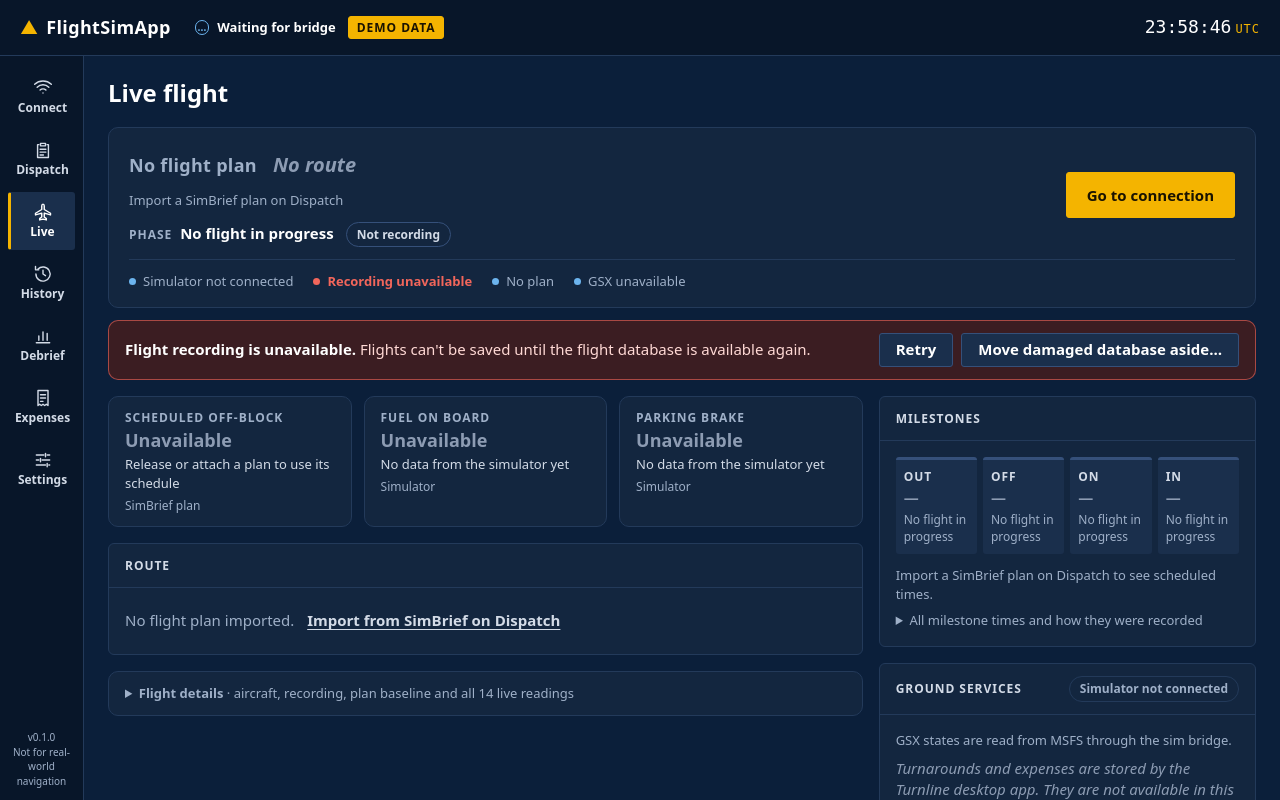
Scenario: operations-center layout (L4, opt-in) › shows recording problems in plain language on Live Flight instead of the technical banners
Expected: the message that starts with "Flight recording is unavailable." shows "Flight recording is unavailable. Flights can't be saved until the flight database is available again.", [108,320,1256,380]
Expected: the message that starts with "Flight recording is unavailable." does not show "flightsim.db", [108,320,1256,380]
Click the button "Move damaged database aside…". click: (1100, 350)
box: [961,333,1239,367]
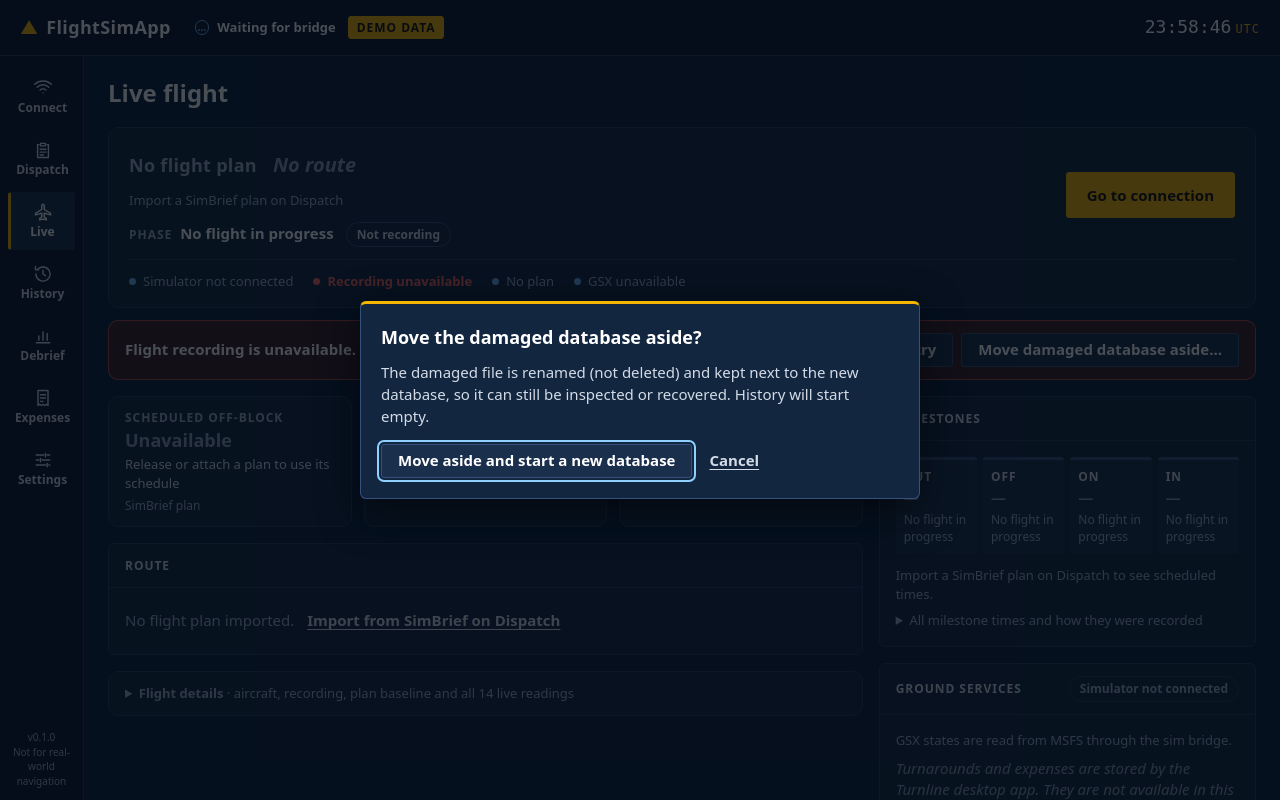
Result: the dialog "Move the damaged database aside?" is shown at [360,301,920,499]
Click the button "Cancel". click: (734, 461)
box: [700,444,768,478]
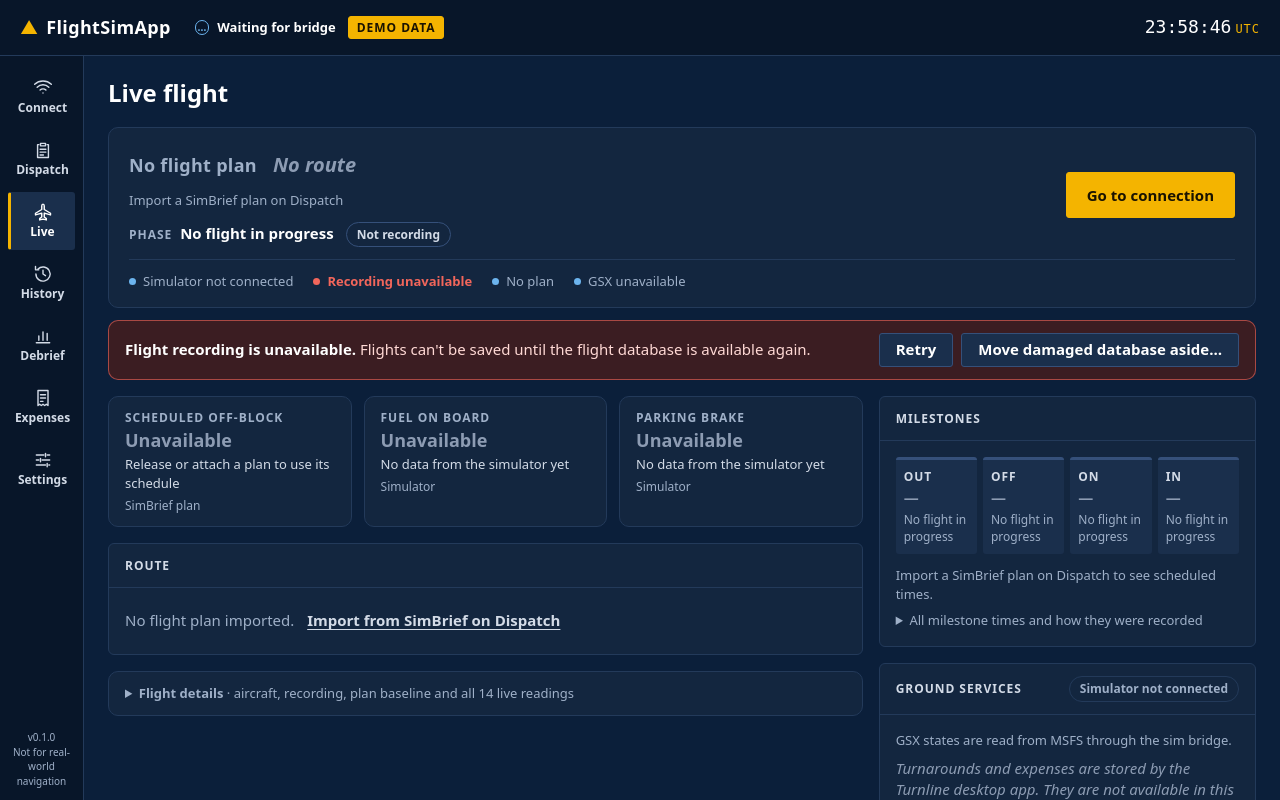
# Other pages keep the app-wide banner, with its technical detail, as before.
Click the button with aria-label "Flight History". click: (42, 283)
box: [8,254,75,312]
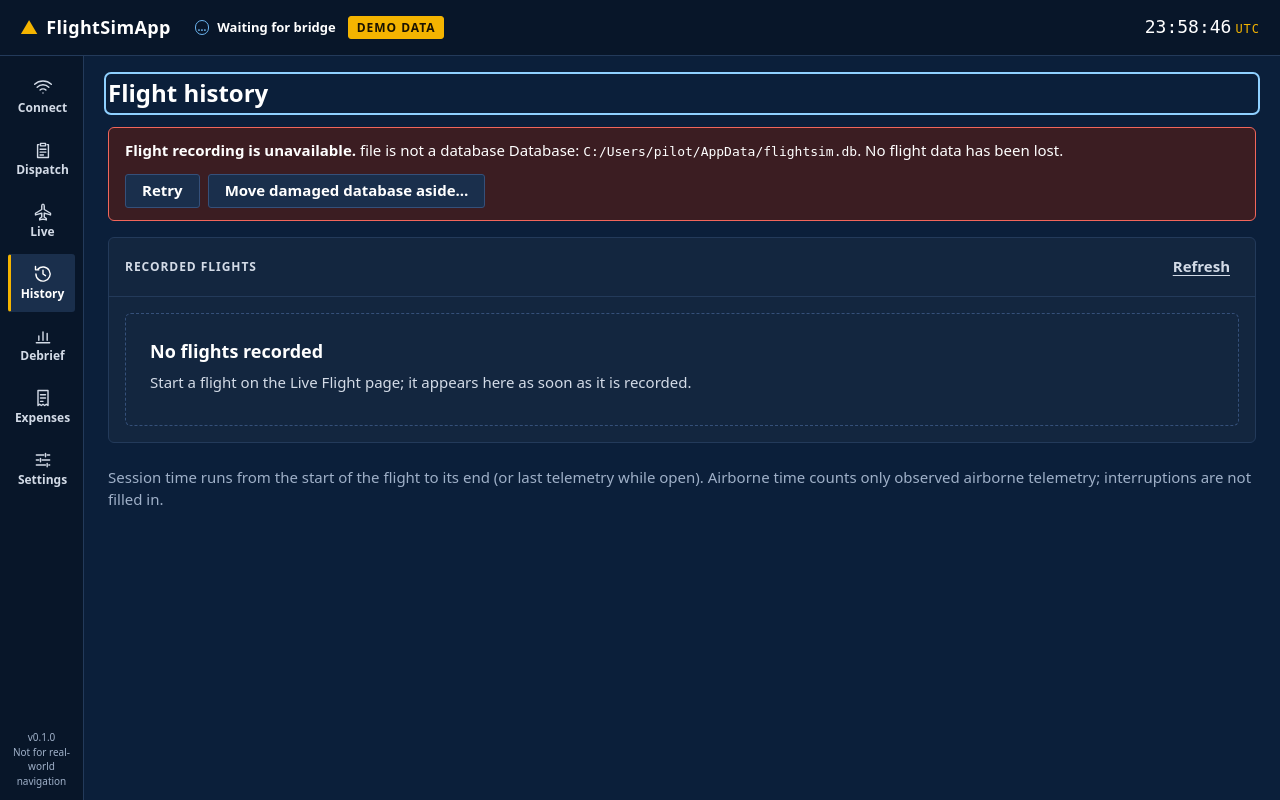
Result: the text "C:/Users/pilot/AppData/flightsim.db" is shown at [583,144,857,159]
